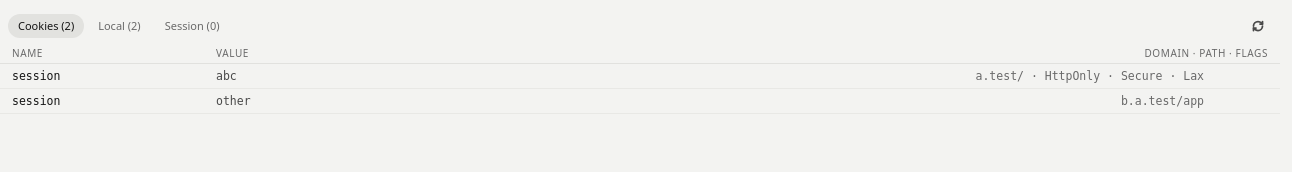
StoragePanel › heads the columns and explains a cookie's flags, then switches to local storage
This screenshot has width=1292, height=172.
Expected: the text "session" is shown 2 times, [12,69,60,83]; [12,94,60,108]
Expected: the text "Domain · path · flags" is shown, [1144,46,1268,61]
Click the button "Local (2)". click: (119, 26)
box: [88,14,151,38]
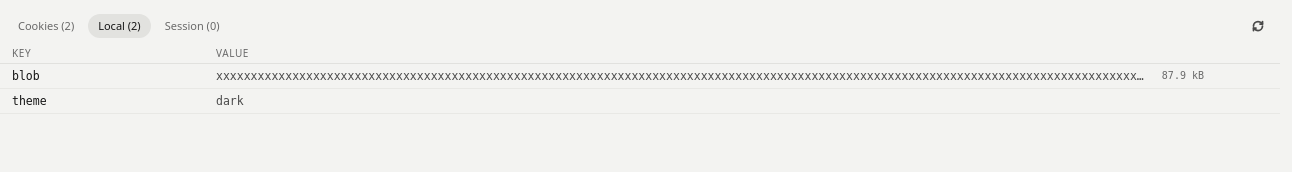
Now the text "Key" is shown, box [12,46,31,60]
Now the text "theme" is shown, box [12,94,47,108]
Click the button "Session (0)". click: (192, 26)
box: [155,14,230,38]
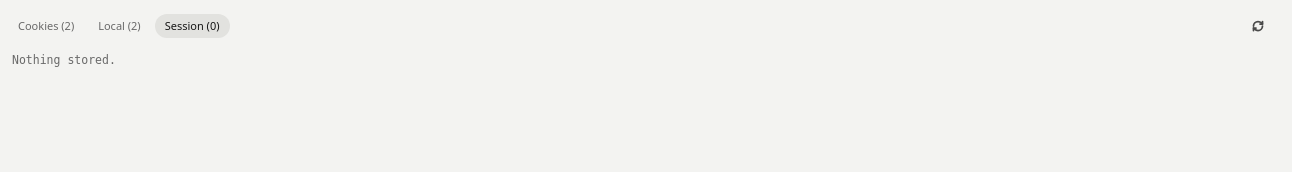
Now the text "Nothing stored." is shown, box [12,53,116,67]
Now the text "Key" is gone
